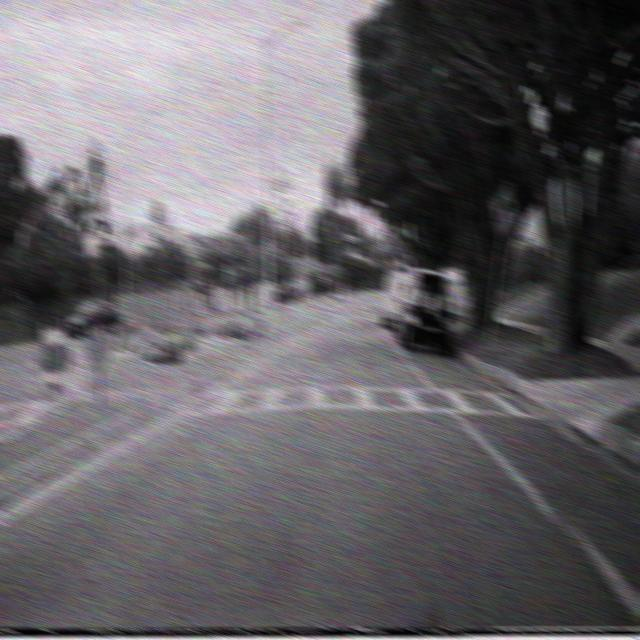pedestrianCrossing: (75, 134, 116, 212)
